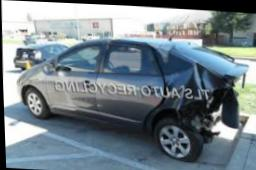Bumper: (188, 91, 241, 136)
Dickey: (220, 57, 250, 107)
Fender: (144, 46, 226, 130)
